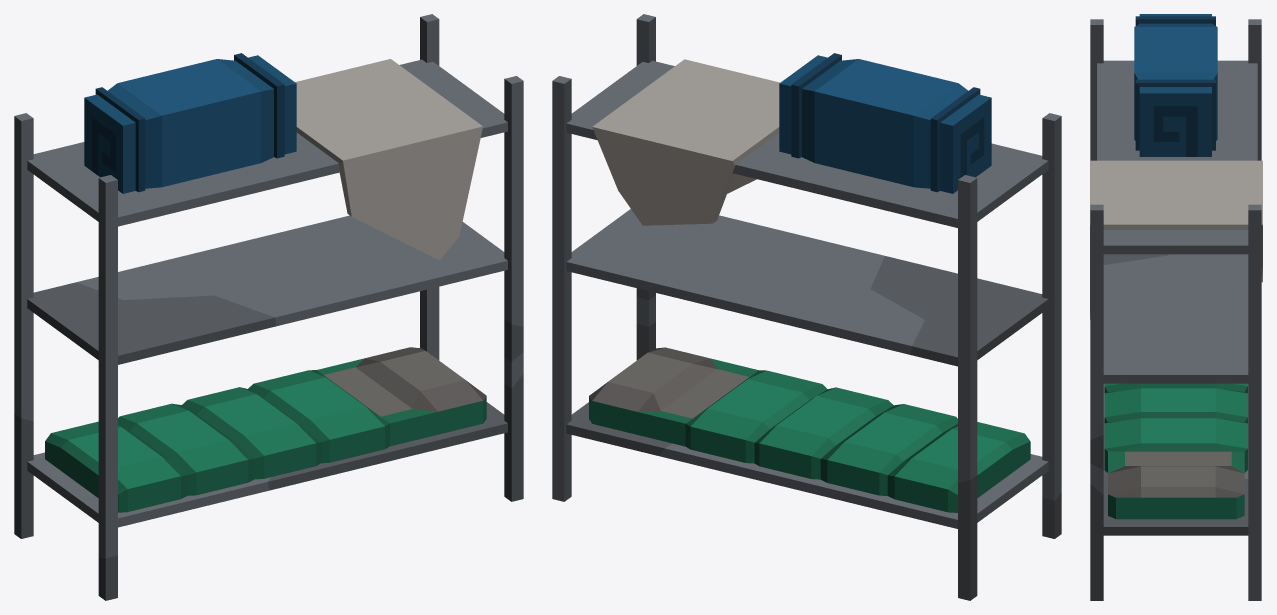
File: AI_Prop_Makeshift_Bed_Bunk.fbx
The picture shows the model from 3 angles, left to right: view 1: azimuth 30°, elevation 25°; view 2: azimuth 150°, elevation 25°; view 3: azimuth 270°, elevation 25°; orthographic projection. The views are drawn at different scales.
Visible parts, largest first — view 1: AI_Prop_Makeshift_Bed_Bunk; view 2: AI_Prop_Makeshift_Bed_Bunk; view 3: AI_Prop_Makeshift_Bed_Bunk.
Boxes of the visible parts, x1,y1,x2,y2 form: AI_Prop_Makeshift_Bed_Bunk: [14, 14, 523, 600]; AI_Prop_Makeshift_Bed_Bunk: [552, 14, 1061, 600]; AI_Prop_Makeshift_Bed_Bunk: [1090, 14, 1262, 600].
Size of the model in its own units: 3.27 by 3.36 by 1.25.
